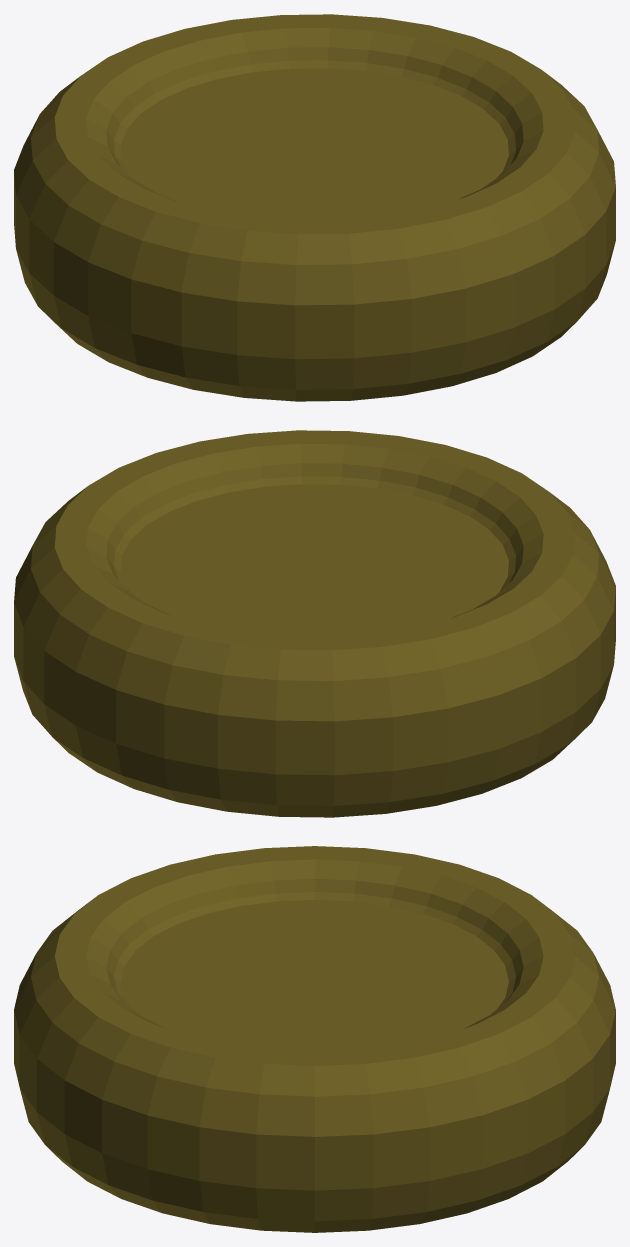
The model's file is Yellow.fbx.
The picture shows the model from 3 angles, top to bottom: view 1: azimuth 30°, elevation 25°; view 2: azimuth 150°, elevation 25°; view 3: azimuth 270°, elevation 25°; orthographic projection.
Parts seen in each view (by area): view 1: Cylinder.002; view 2: Cylinder.002; view 3: Cylinder.002.
Part boxes in pixels (bbox=[...]): Cylinder.002: bbox=[14, 14, 615, 401]; Cylinder.002: bbox=[14, 430, 615, 817]; Cylinder.002: bbox=[14, 846, 615, 1232].
Size of the model in its own units: 169 by 50 by 169.
